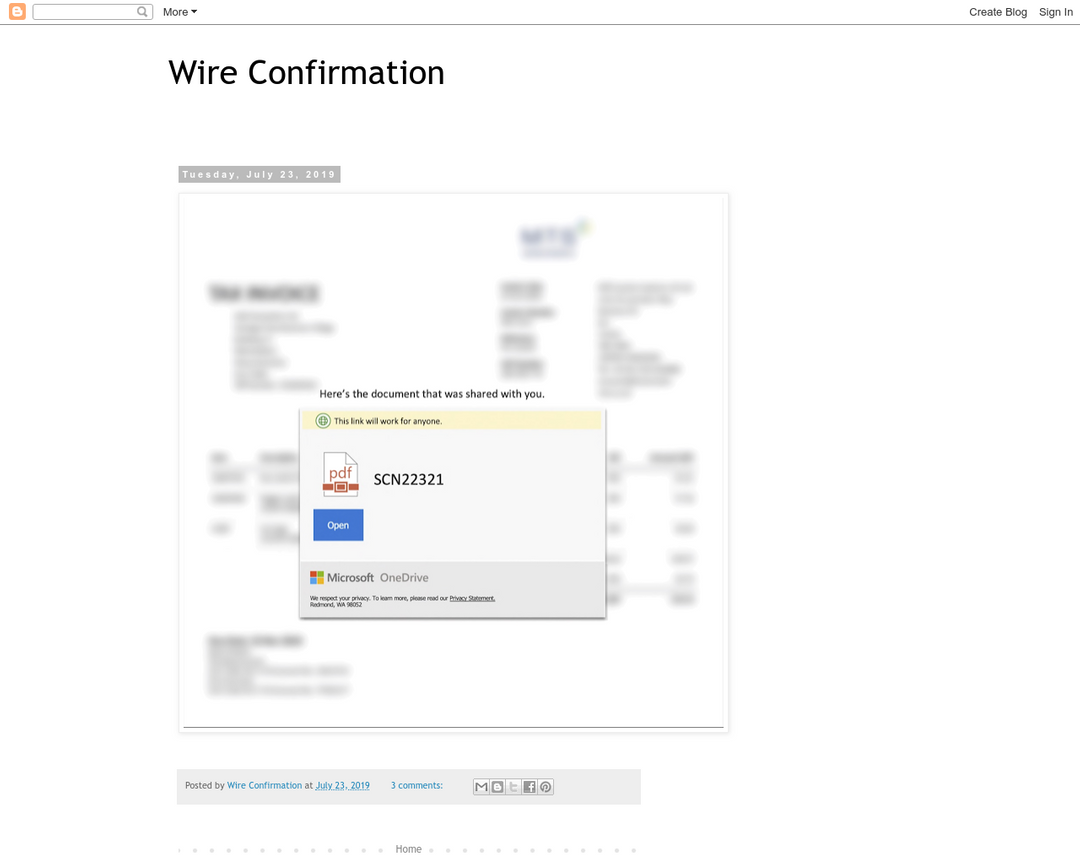Microsoft: (568, 469, 690, 571), (47, 5, 151, 36)
